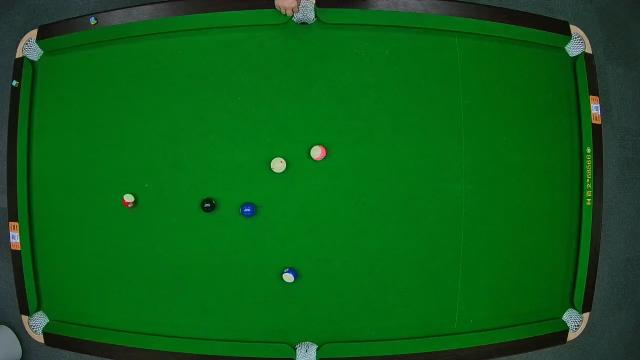bag1: (22, 39, 42, 61)
bag2: (292, 0, 318, 24)
bag3: (564, 33, 588, 55)
bag4: (27, 310, 48, 334)
bag5: (293, 340, 319, 360)
bag6: (562, 308, 582, 330)
ball0: (270, 158, 286, 175)
ball10: (282, 266, 298, 284)
ball11: (122, 192, 136, 210)
ball12: (309, 146, 325, 160)
ball2: (240, 204, 256, 221)
ball8: (200, 197, 216, 212)
